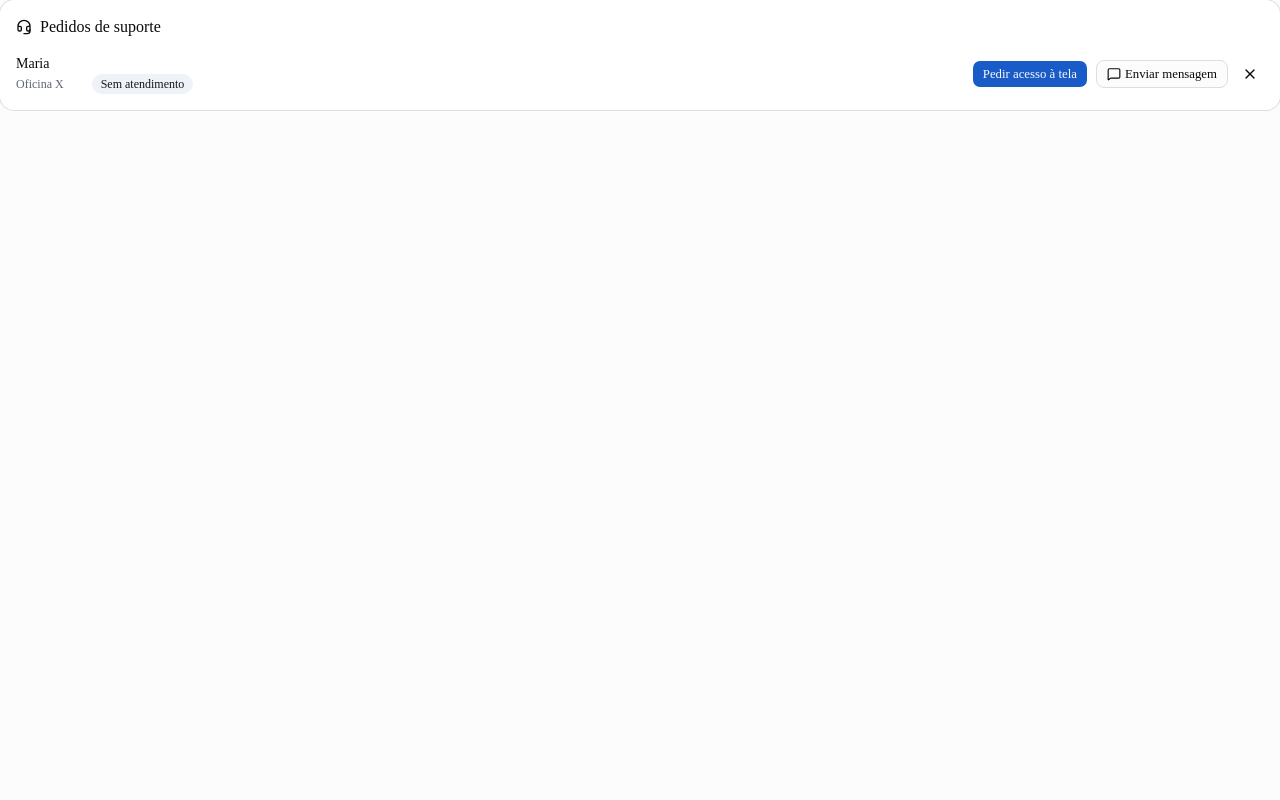
Scenario: SupportInbox › a mensagem vazia não envia
This screenshot has width=1280, height=800.
Click the button "Enviar mensagem" at (1162, 74), box [1096,60,1228,88]
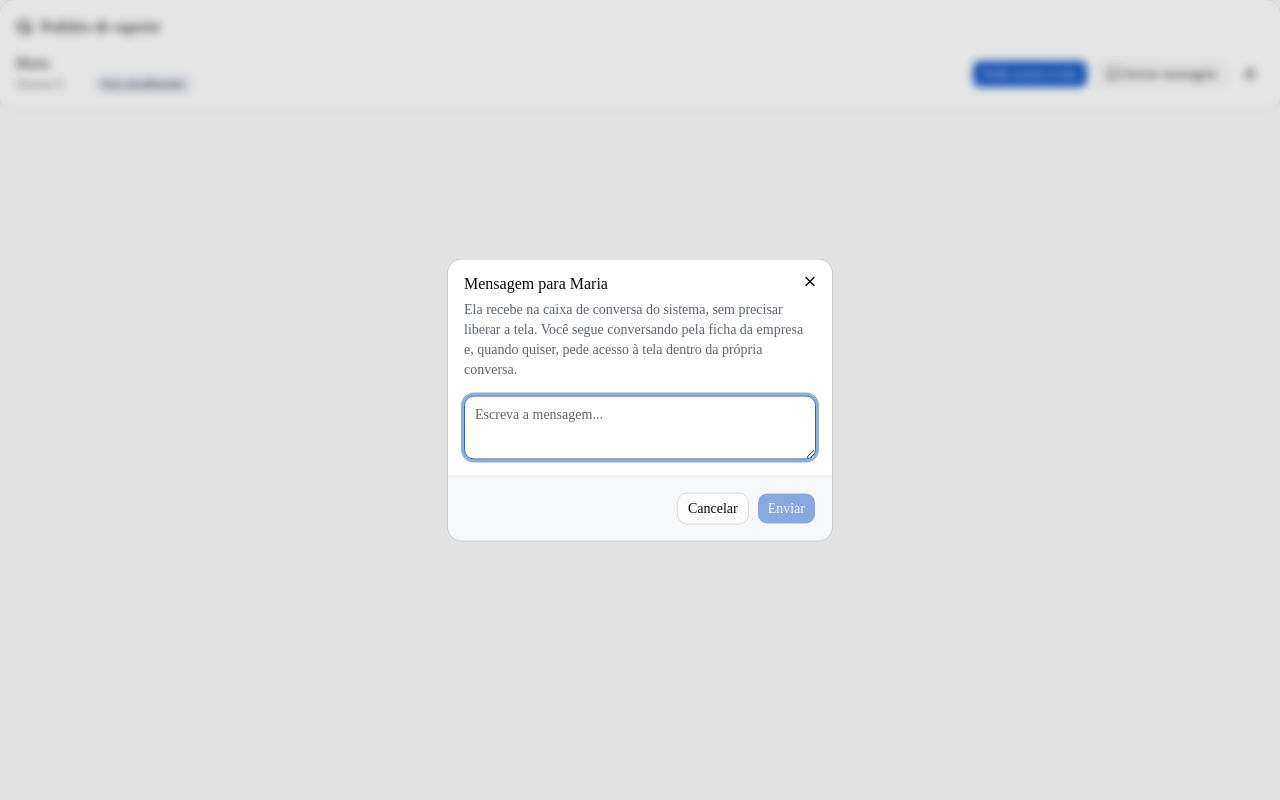
Expected: the button "Enviar" is disabled, [757,492,816,524]
